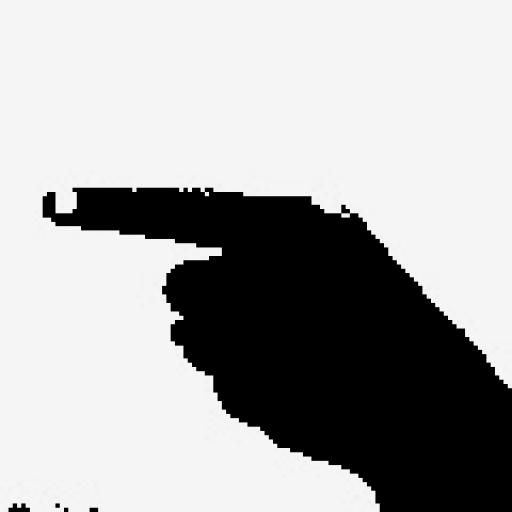index_left: (42, 185, 512, 416)
